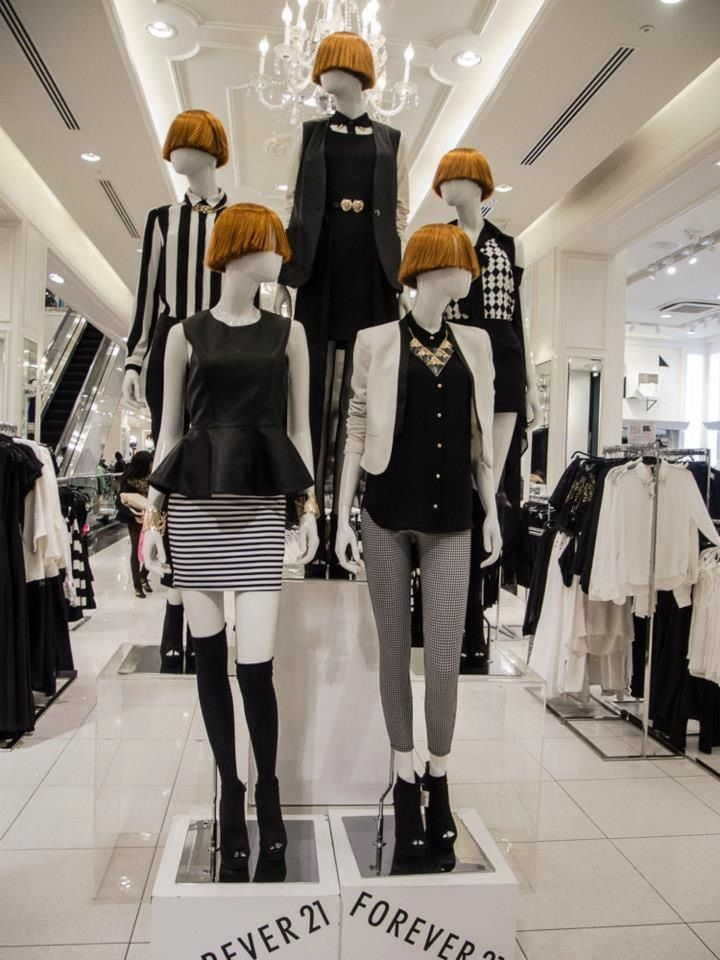person-like: (127, 196, 327, 872), (337, 220, 511, 859), (279, 24, 409, 593), (114, 101, 263, 460), (425, 141, 534, 478)
